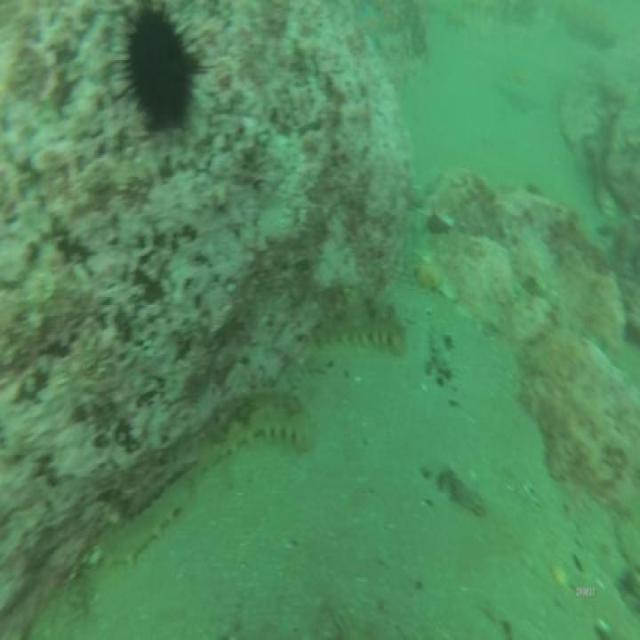echinus: (121, 5, 197, 137)
holothurian: (182, 380, 316, 470), (92, 478, 202, 568), (305, 302, 410, 363)
starfish: (357, 3, 387, 55)
